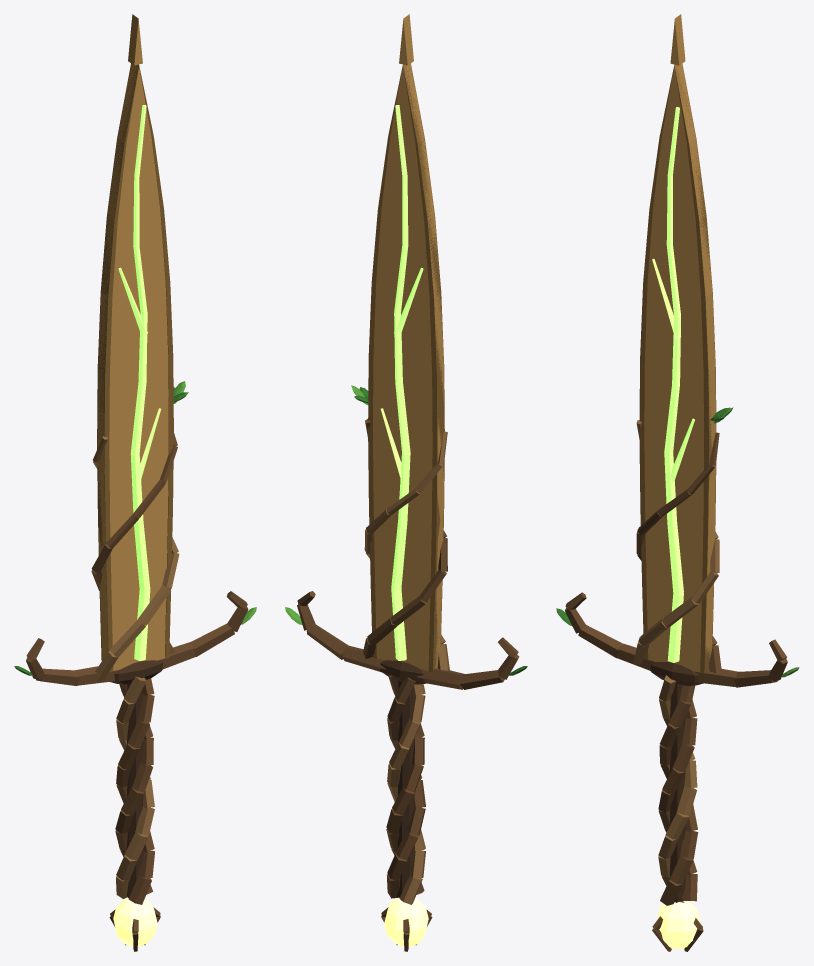
Rendered from roots_greatsword.glb.
The picture shows the model from 3 angles, left to right: view 1: azimuth 30°, elevation 25°; view 2: azimuth 150°, elevation 25°; view 3: azimuth 330°, elevation 25°; orthographic projection.
Parts seen in each view (by area): view 1: roots_greatsword; view 2: roots_greatsword; view 3: roots_greatsword.
Boxes of the visible parts, x1=… form: roots_greatsword: x1=14, y1=14, x2=256, y2=951; roots_greatsword: x1=285, y1=14, x2=527, y2=951; roots_greatsword: x1=556, y1=14, x2=799, y2=951.
Bounding box in the file's own units: 0.7283 × 2.67 × 0.1339.
